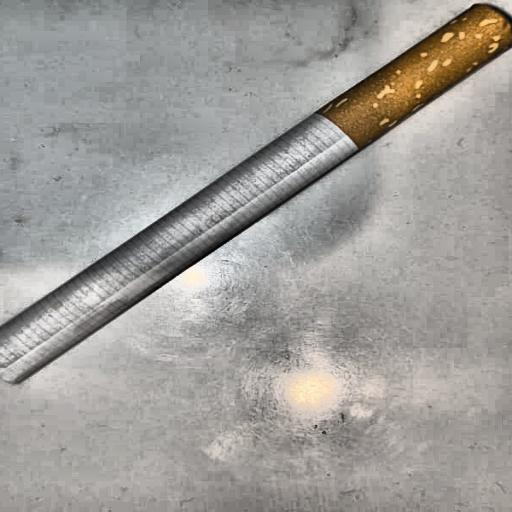Merokok: (0, 5, 512, 383)
